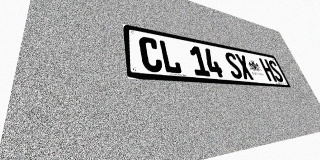1: (187, 45, 211, 76)
4: (202, 48, 224, 78)
C: (138, 36, 164, 73)
H: (258, 58, 277, 82)
L: (158, 39, 183, 74)
S: (223, 51, 244, 79), (267, 60, 285, 82)
X: (234, 54, 255, 80)
